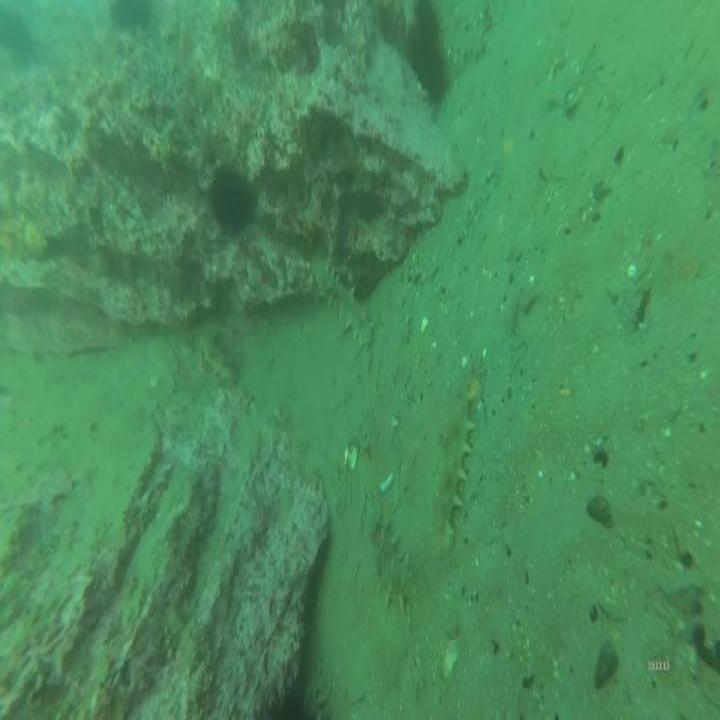echinus: (201, 158, 265, 244), (407, 0, 454, 105)
holothurian: (431, 374, 478, 558), (313, 261, 379, 352), (370, 514, 420, 622), (195, 320, 243, 391)
